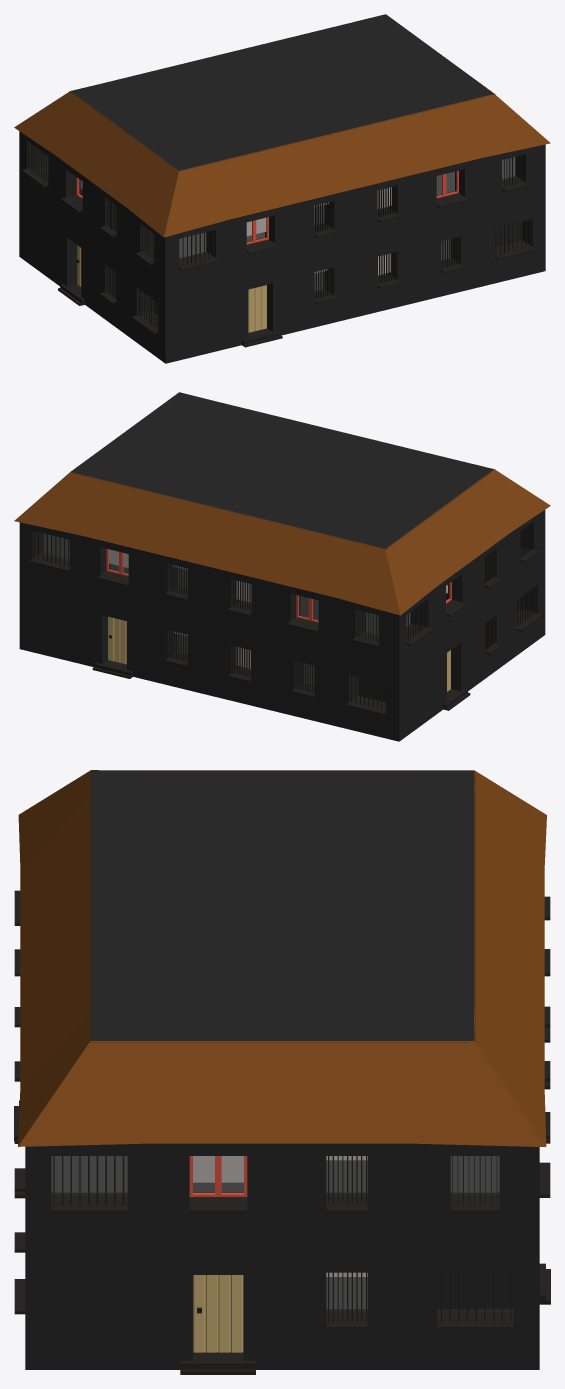
Rendered from Casa_Procedural_1.fbx.
3 renders of one model, top to bottom at view 1: azimuth 30°, elevation 25°; view 2: azimuth 150°, elevation 25°; view 3: azimuth 270°, elevation 25°, orthographic. The views are drawn at different scales.
Parts seen in each view (by area): view 1: 1; view 2: 1; view 3: 1.
Boxes of the visible parts, <box> form: 1: <box>14,14,550,363</box>; 1: <box>14,392,550,741</box>; 1: <box>14,770,550,1374</box>.
Bounding box in the file's own units: 618 × 259 × 418.
